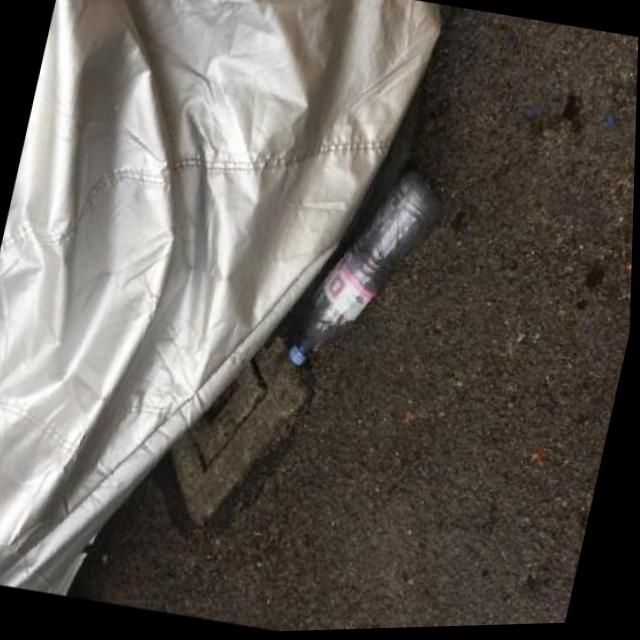plastic: (286, 154, 448, 389)
